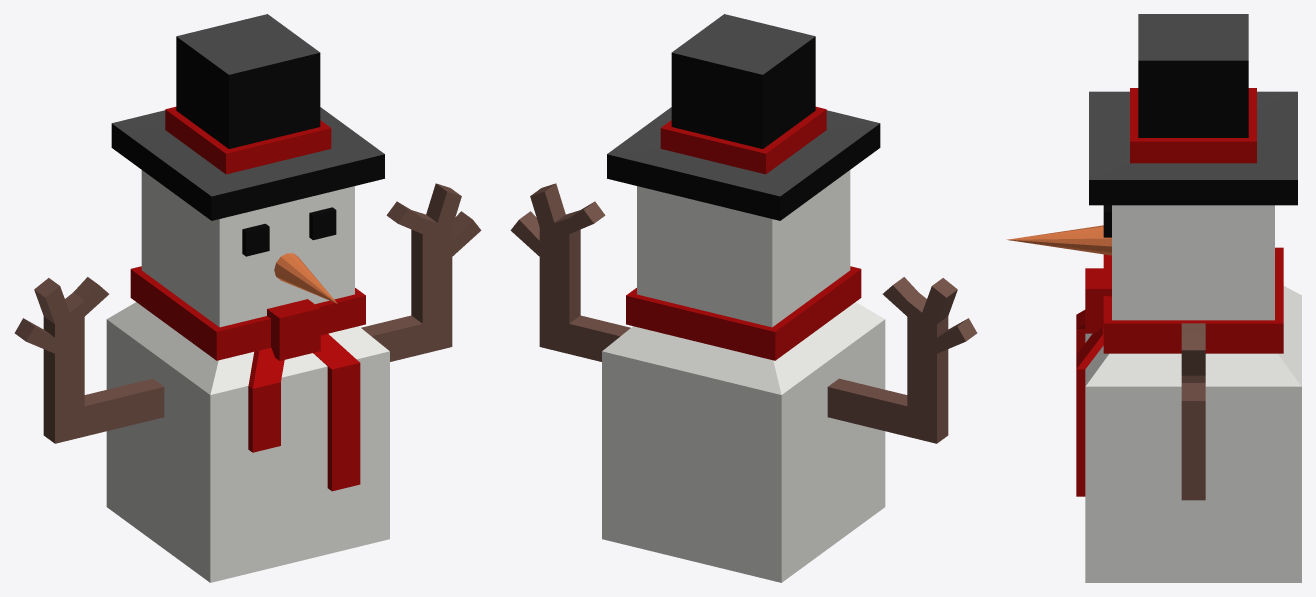
File: 001 Snowman.fbx
The picture shows the model from 3 angles, left to right: view 1: azimuth 30°, elevation 25°; view 2: azimuth 150°, elevation 25°; view 3: azimuth 270°, elevation 25°; orthographic projection. The views are drawn at different scales.
Parts seen in each view (by area): view 1: pCube8; view 2: pCube8; view 3: pCube8.
Boxes of the visible parts, x1=… form: pCube8: x1=14, y1=14, x2=481, y2=582; pCube8: x1=510, y1=14, x2=977, y2=582; pCube8: x1=1006, y1=14, x2=1301, y2=582.
Bounding box in the file's own units: 2.54 × 2.55 × 1.37.
